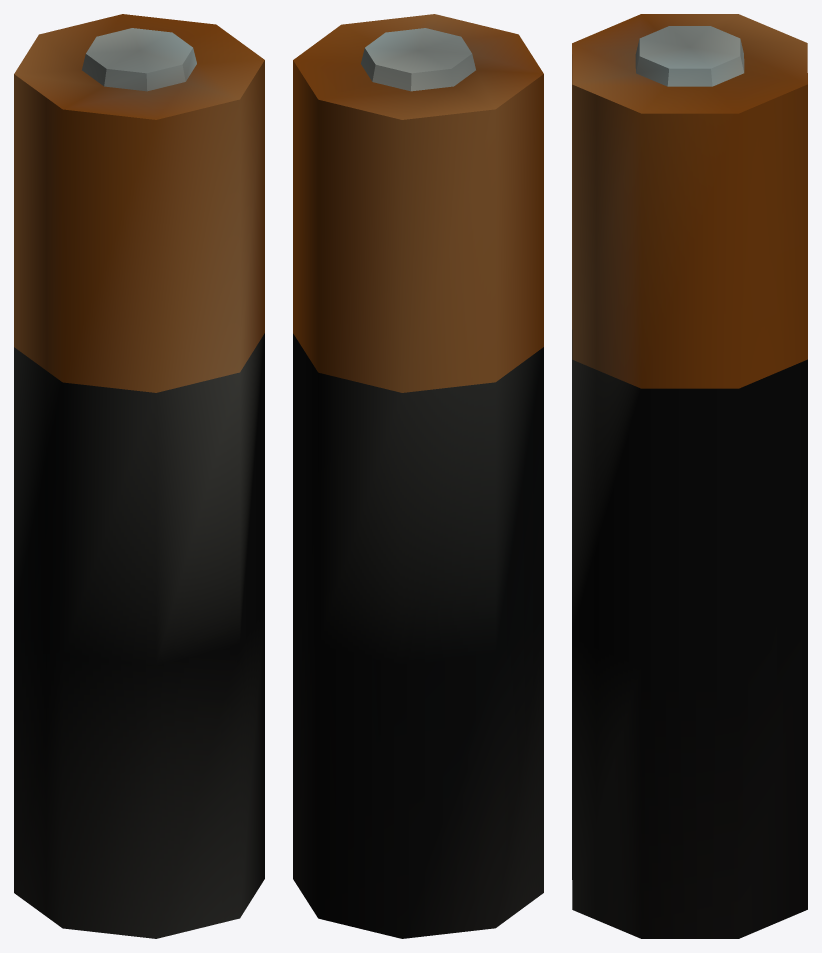
File: aa_battery.FBX
3 views of the same model, side by side, from view 1: azimuth 30°, elevation 25°; view 2: azimuth 150°, elevation 25°; view 3: azimuth 270°, elevation 25° (orthographic).
Parts seen in each view (by area): view 1: battery_1; view 2: battery_1; view 3: battery_1.
Boxes of the visible parts, x1,y1,x2,y2 form: battery_1: [14, 14, 264, 938]; battery_1: [293, 14, 543, 938]; battery_1: [572, 14, 807, 938].
Size of the model in its own units: 0.0129 by 0.051 by 0.0129.
